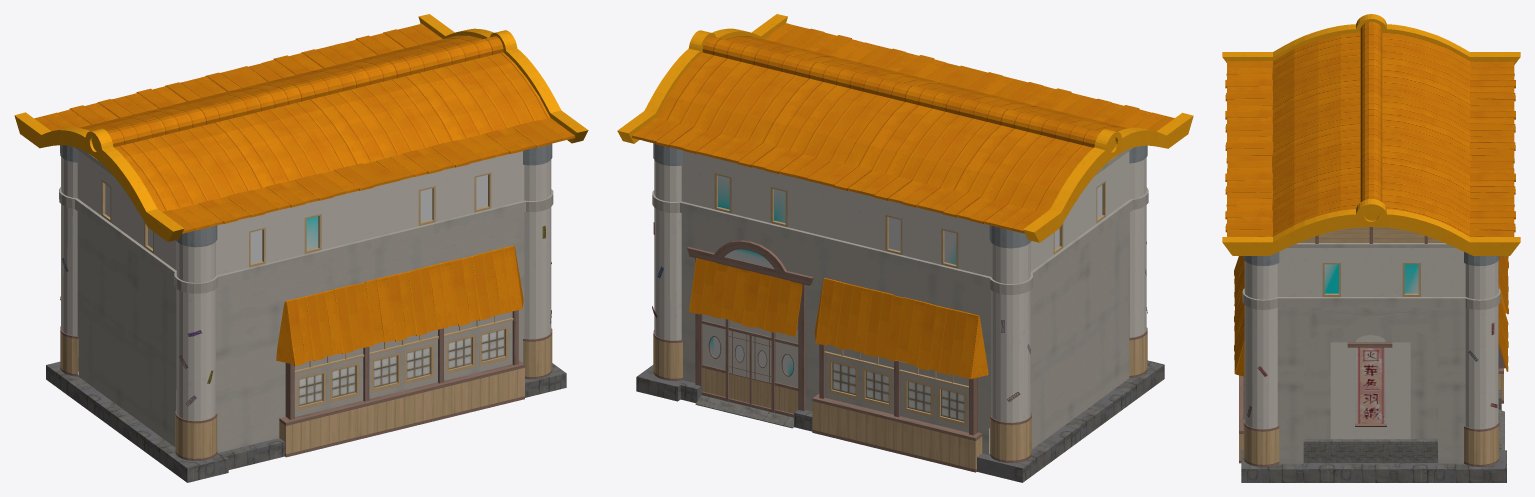
File: SM_ENV_KNVLLG_AreaB_Building_C.fbx
3 views of the same model, side by side, from view 1: azimuth 30°, elevation 25°; view 2: azimuth 150°, elevation 25°; view 3: azimuth 270°, elevation 25° (orthographic). The views are drawn at different scales.
Parts seen in each view (by area): view 1: SM_ENV_KNVLLG_AreaB_Building_C.mo; view 2: SM_ENV_KNVLLG_AreaB_Building_C.mo; view 3: SM_ENV_KNVLLG_AreaB_Building_C.mo.
Boxes of the visible parts, x1,y1,x2,y2 form: SM_ENV_KNVLLG_AreaB_Building_C.mo: (14,14,588,482); SM_ENV_KNVLLG_AreaB_Building_C.mo: (617,14,1193,482); SM_ENV_KNVLLG_AreaB_Building_C.mo: (1222,14,1520,482).
Bounding box in the file's own units: 3557 × 2479 × 2357.
